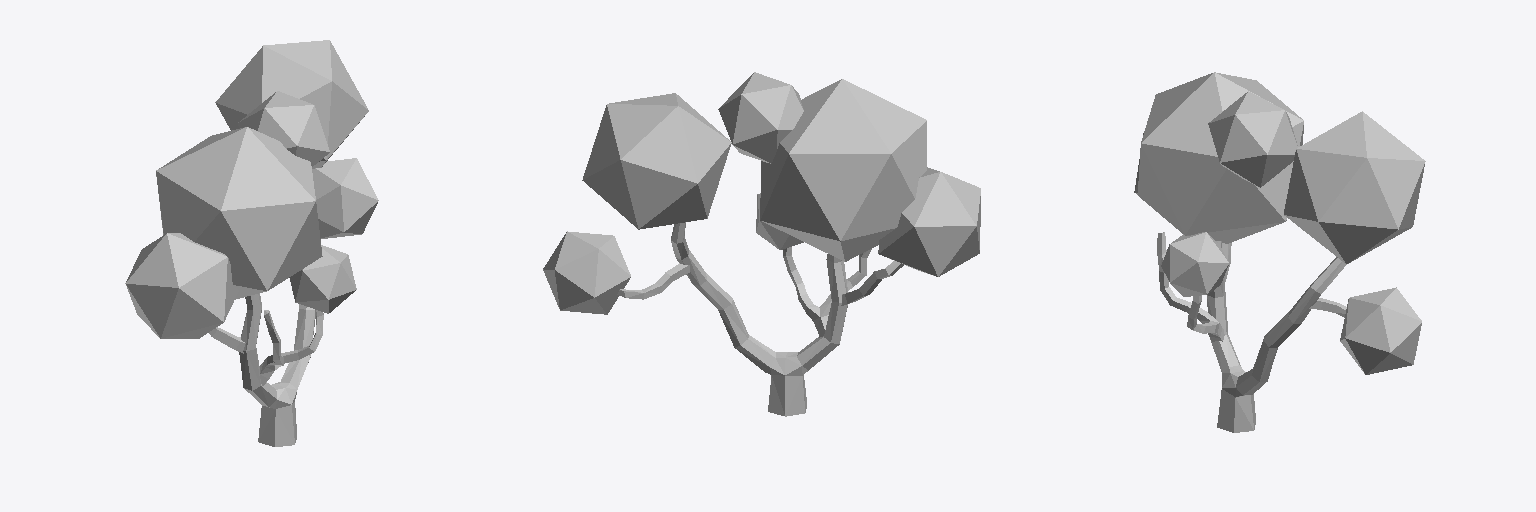
Rendered from tree2.obj.
3 views of the same model, side by side, from view 1: azimuth 30°, elevation 25°; view 2: azimuth 150°, elevation 25°; view 3: azimuth 270°, elevation 25° (orthographic).
Parts seen in each view (by area): view 1: Tree_lp_11; view 2: Tree_lp_11; view 3: Tree_lp_11.
Part boxes in pixels (x1,y1,x2,y2): Tree_lp_11: (125,40,378,446); Tree_lp_11: (543,72,980,416); Tree_lp_11: (1134,72,1425,432).
Size of the model in its own units: 13.99 by 13.27 by 10.4.